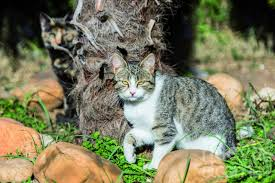cat: (87, 42, 237, 168)
